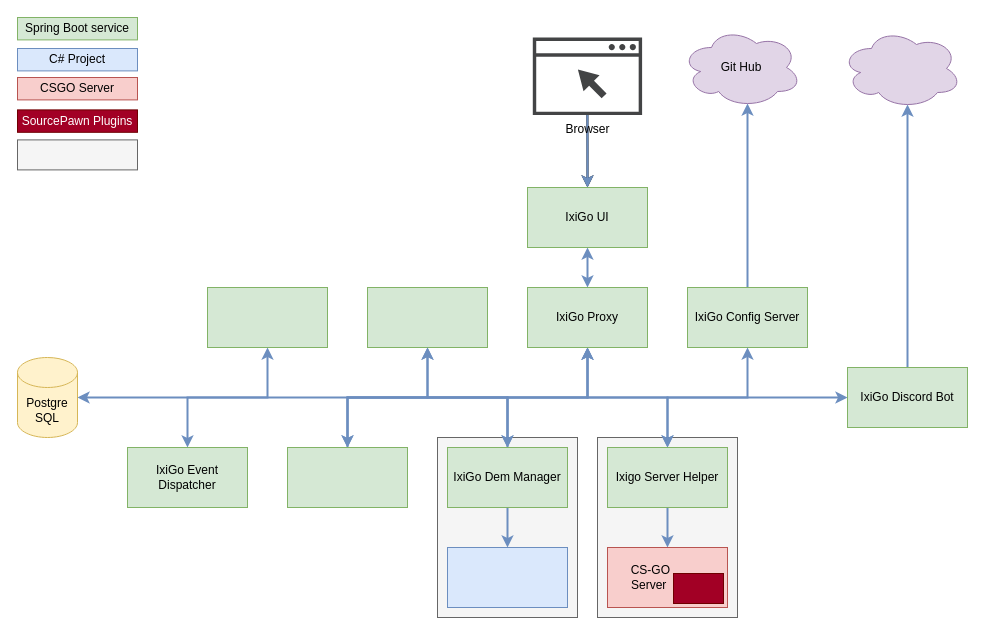
Some shapes in this 985 by 635 pixel diagram are drawn without their labels. Here are the shapes that lost their labels. From the top down, the centre of each, then its label:
pixel 901 68: Discord
pixel 77 154: Deployed on the same host / container
pixel 267 317: IxiGo Players Manager
pixel 427 317: IxiGo Discovery
pixel 347 477: IxiGo Rcon Api Service
pixel 507 577: Dem Parser
pixel 698 588: Csgo Plugins
